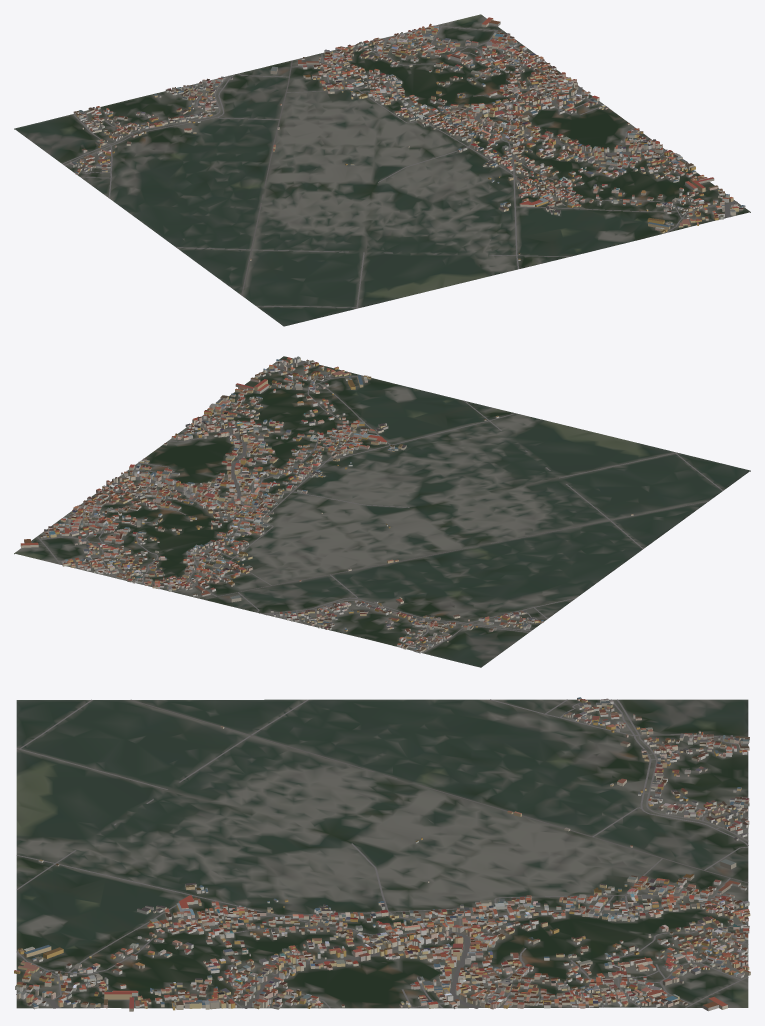
3 views of the same model, one above another, from view 1: azimuth 30°, elevation 25°; view 2: azimuth 150°, elevation 25°; view 3: azimuth 270°, elevation 25° (orthographic). The views are drawn at different scales.
Parts seen in each view (by area): view 1: ground, buildings, roads; view 2: ground, buildings, roads; view 3: ground, buildings, roads.
Boxes of the visible parts, x1,y1,x2,y2 form: ground: (14, 14, 750, 326); buildings: (69, 17, 745, 260); roads: (62, 26, 737, 308); ground: (14, 356, 750, 667); buildings: (20, 356, 633, 653); roads: (37, 361, 723, 653); ground: (16, 699, 748, 1008); buildings: (14, 697, 750, 1011); roads: (16, 699, 748, 1008).
Size of the model in its own units: 1418 by 23.68 by 1412.
